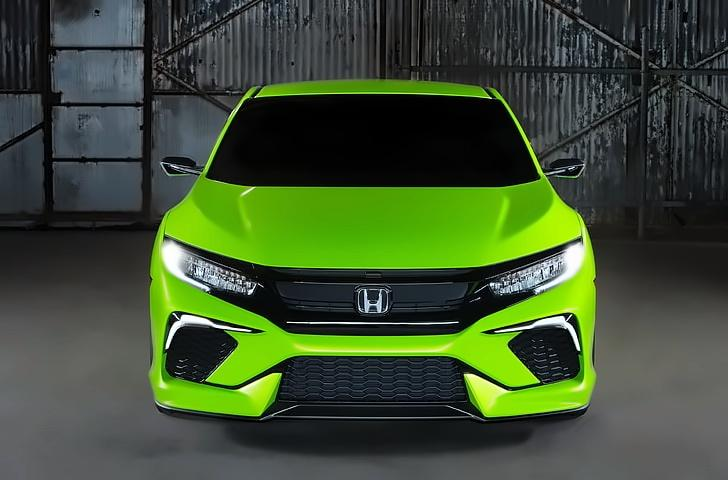Car hood: (165, 177, 581, 270)
Front bumper: (143, 259, 600, 424)
Headlight - -L-: (468, 235, 586, 311)
Headlight - -R-: (160, 234, 275, 306)
Side mirror - -L-: (545, 156, 591, 182)
Side mirror - -R-: (158, 155, 205, 182)
